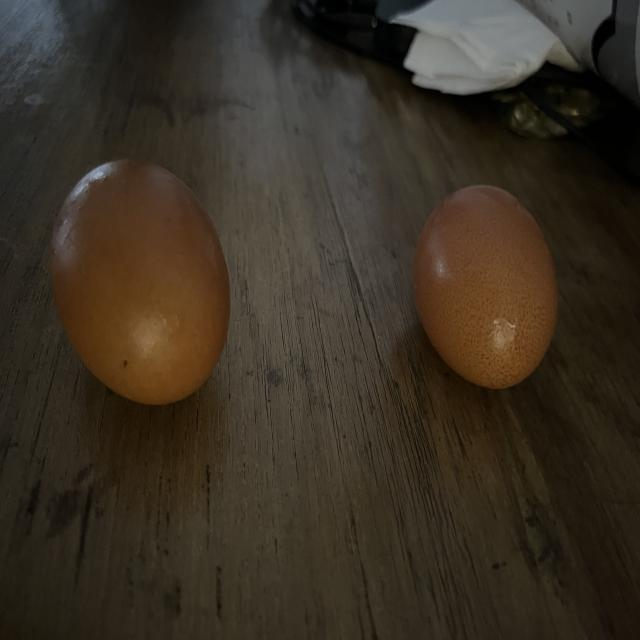Egg: (40, 158, 234, 412), (401, 180, 562, 402)
